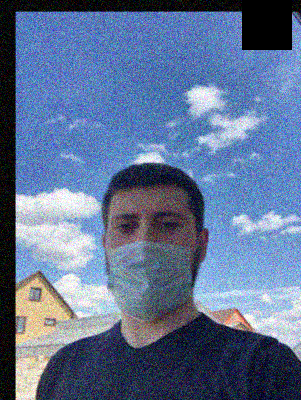with_mask: (104, 203, 195, 323)
